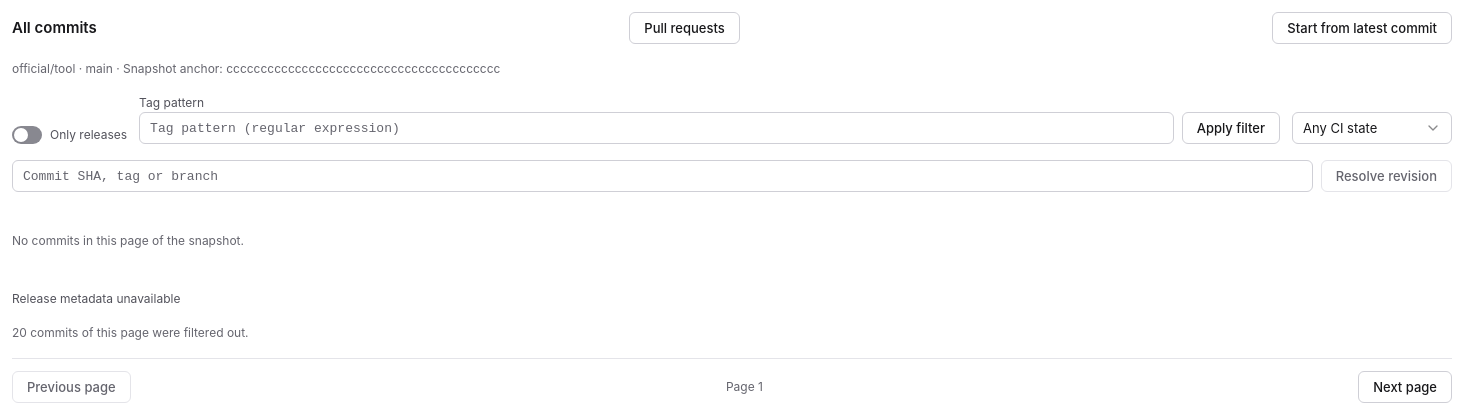
keeps next-page navigation usable when filtering removes every row
The image size is (1464, 420).
Expected: the text "Release metadata unavailable" is shown, [12, 291, 180, 306]
# When enabling release filtering.
Click the switch named "Only releases" at {"x": 27, "y": 135}, box [12, 126, 42, 144]
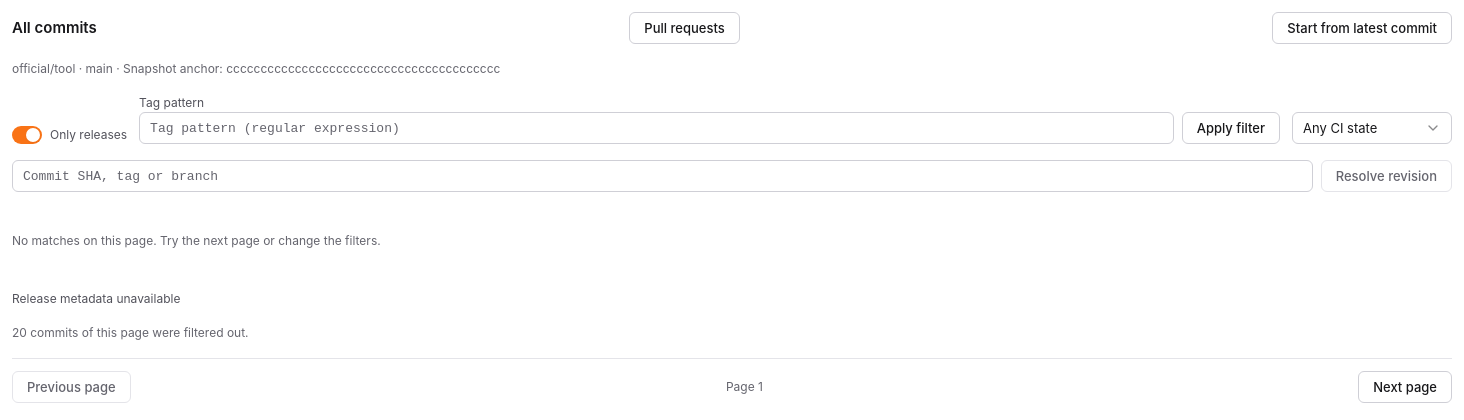
Expected: the button "Next page" is enabled, [1358, 371, 1452, 403]
Expected: the text "No matches on this page" is shown, [12, 233, 381, 248]
